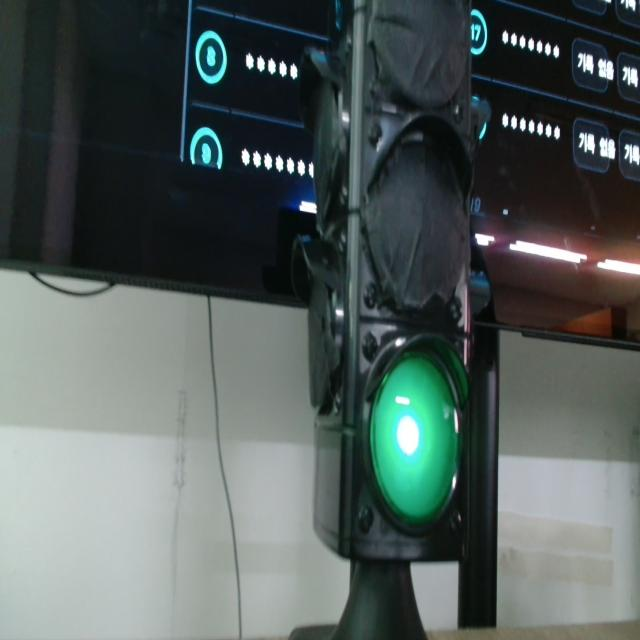green_light: (371, 354, 459, 525)
